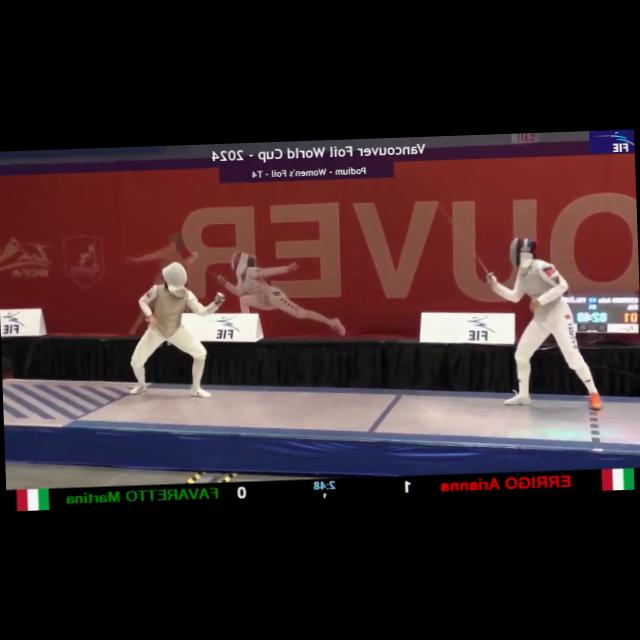blade: (431, 195, 494, 283)
